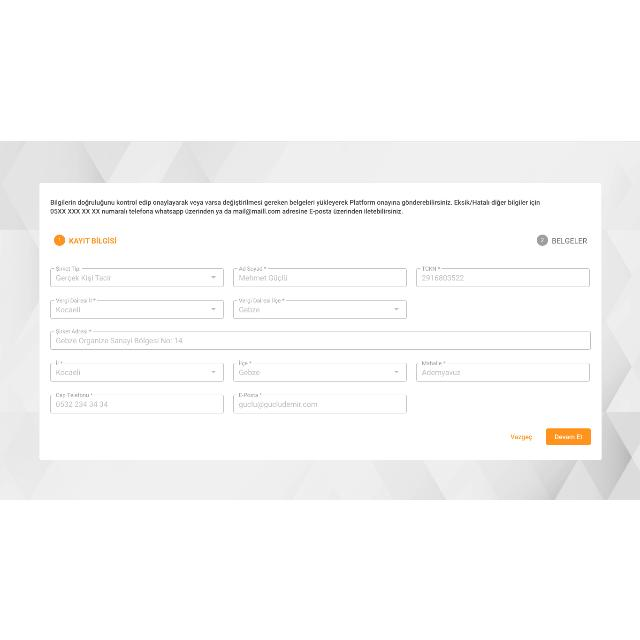QLabel: (49, 195, 544, 215), (67, 236, 116, 244), (552, 236, 586, 244), (552, 433, 584, 439), (510, 434, 532, 440)
VBtn: (546, 428, 590, 444)
VCard: (40, 182, 602, 460)
VCombobox: (232, 360, 408, 382), (49, 360, 224, 382), (48, 299, 224, 319), (233, 299, 407, 319), (50, 266, 224, 286)
VDivider: (119, 238, 533, 240)
VStepper: (46, 230, 594, 446)
VTextField: (51, 328, 591, 349), (232, 392, 408, 414), (49, 392, 224, 414), (416, 361, 590, 383), (416, 266, 592, 286), (232, 266, 408, 286)
